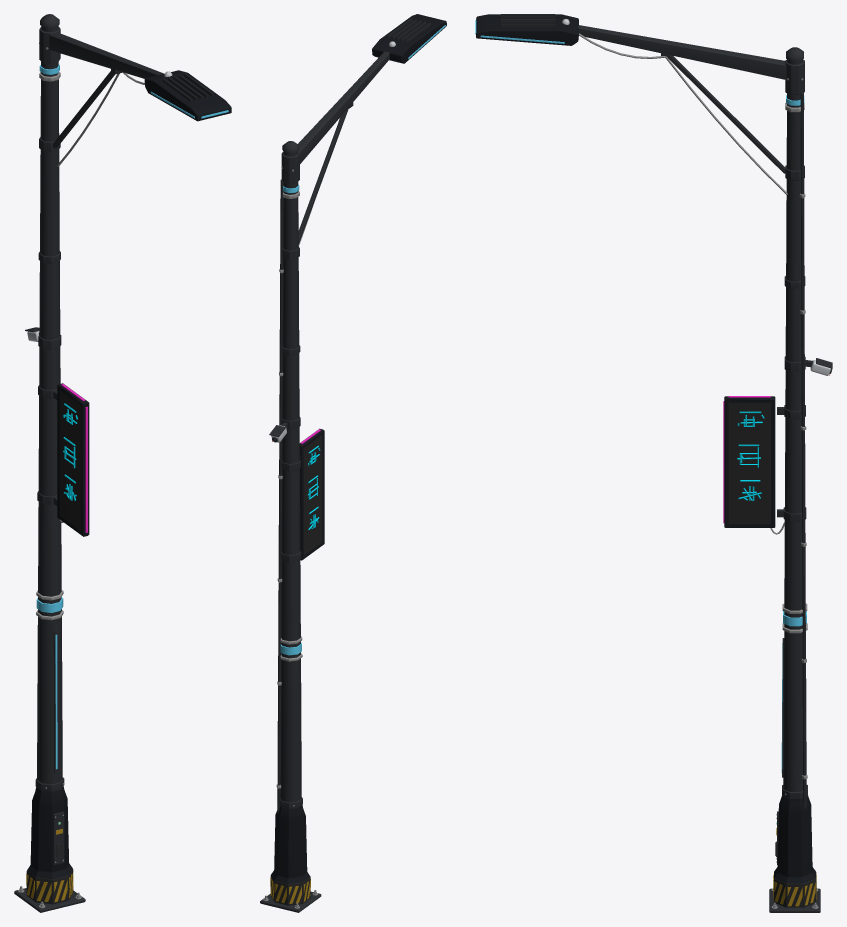
Rendered from StreetLight.fbx.
The picture shows the model from 3 angles, left to right: view 1: azimuth 30°, elevation 25°; view 2: azimuth 150°, elevation 25°; view 3: azimuth 270°, elevation 25°; orthographic projection. The views are drawn at different scales.
Visible parts, largest first — view 1: StreetLight_LOD0; view 2: StreetLight_LOD0; view 3: StreetLight_LOD0.
Boxes of the visible parts, <box> form: StreetLight_LOD0: <box>14,14,231,912</box>; StreetLight_LOD0: <box>260,14,446,912</box>; StreetLight_LOD0: <box>475,14,832,912</box>.
Size of what is drawn, in the model's own units: 0.34 by 6.47 by 2.37.
